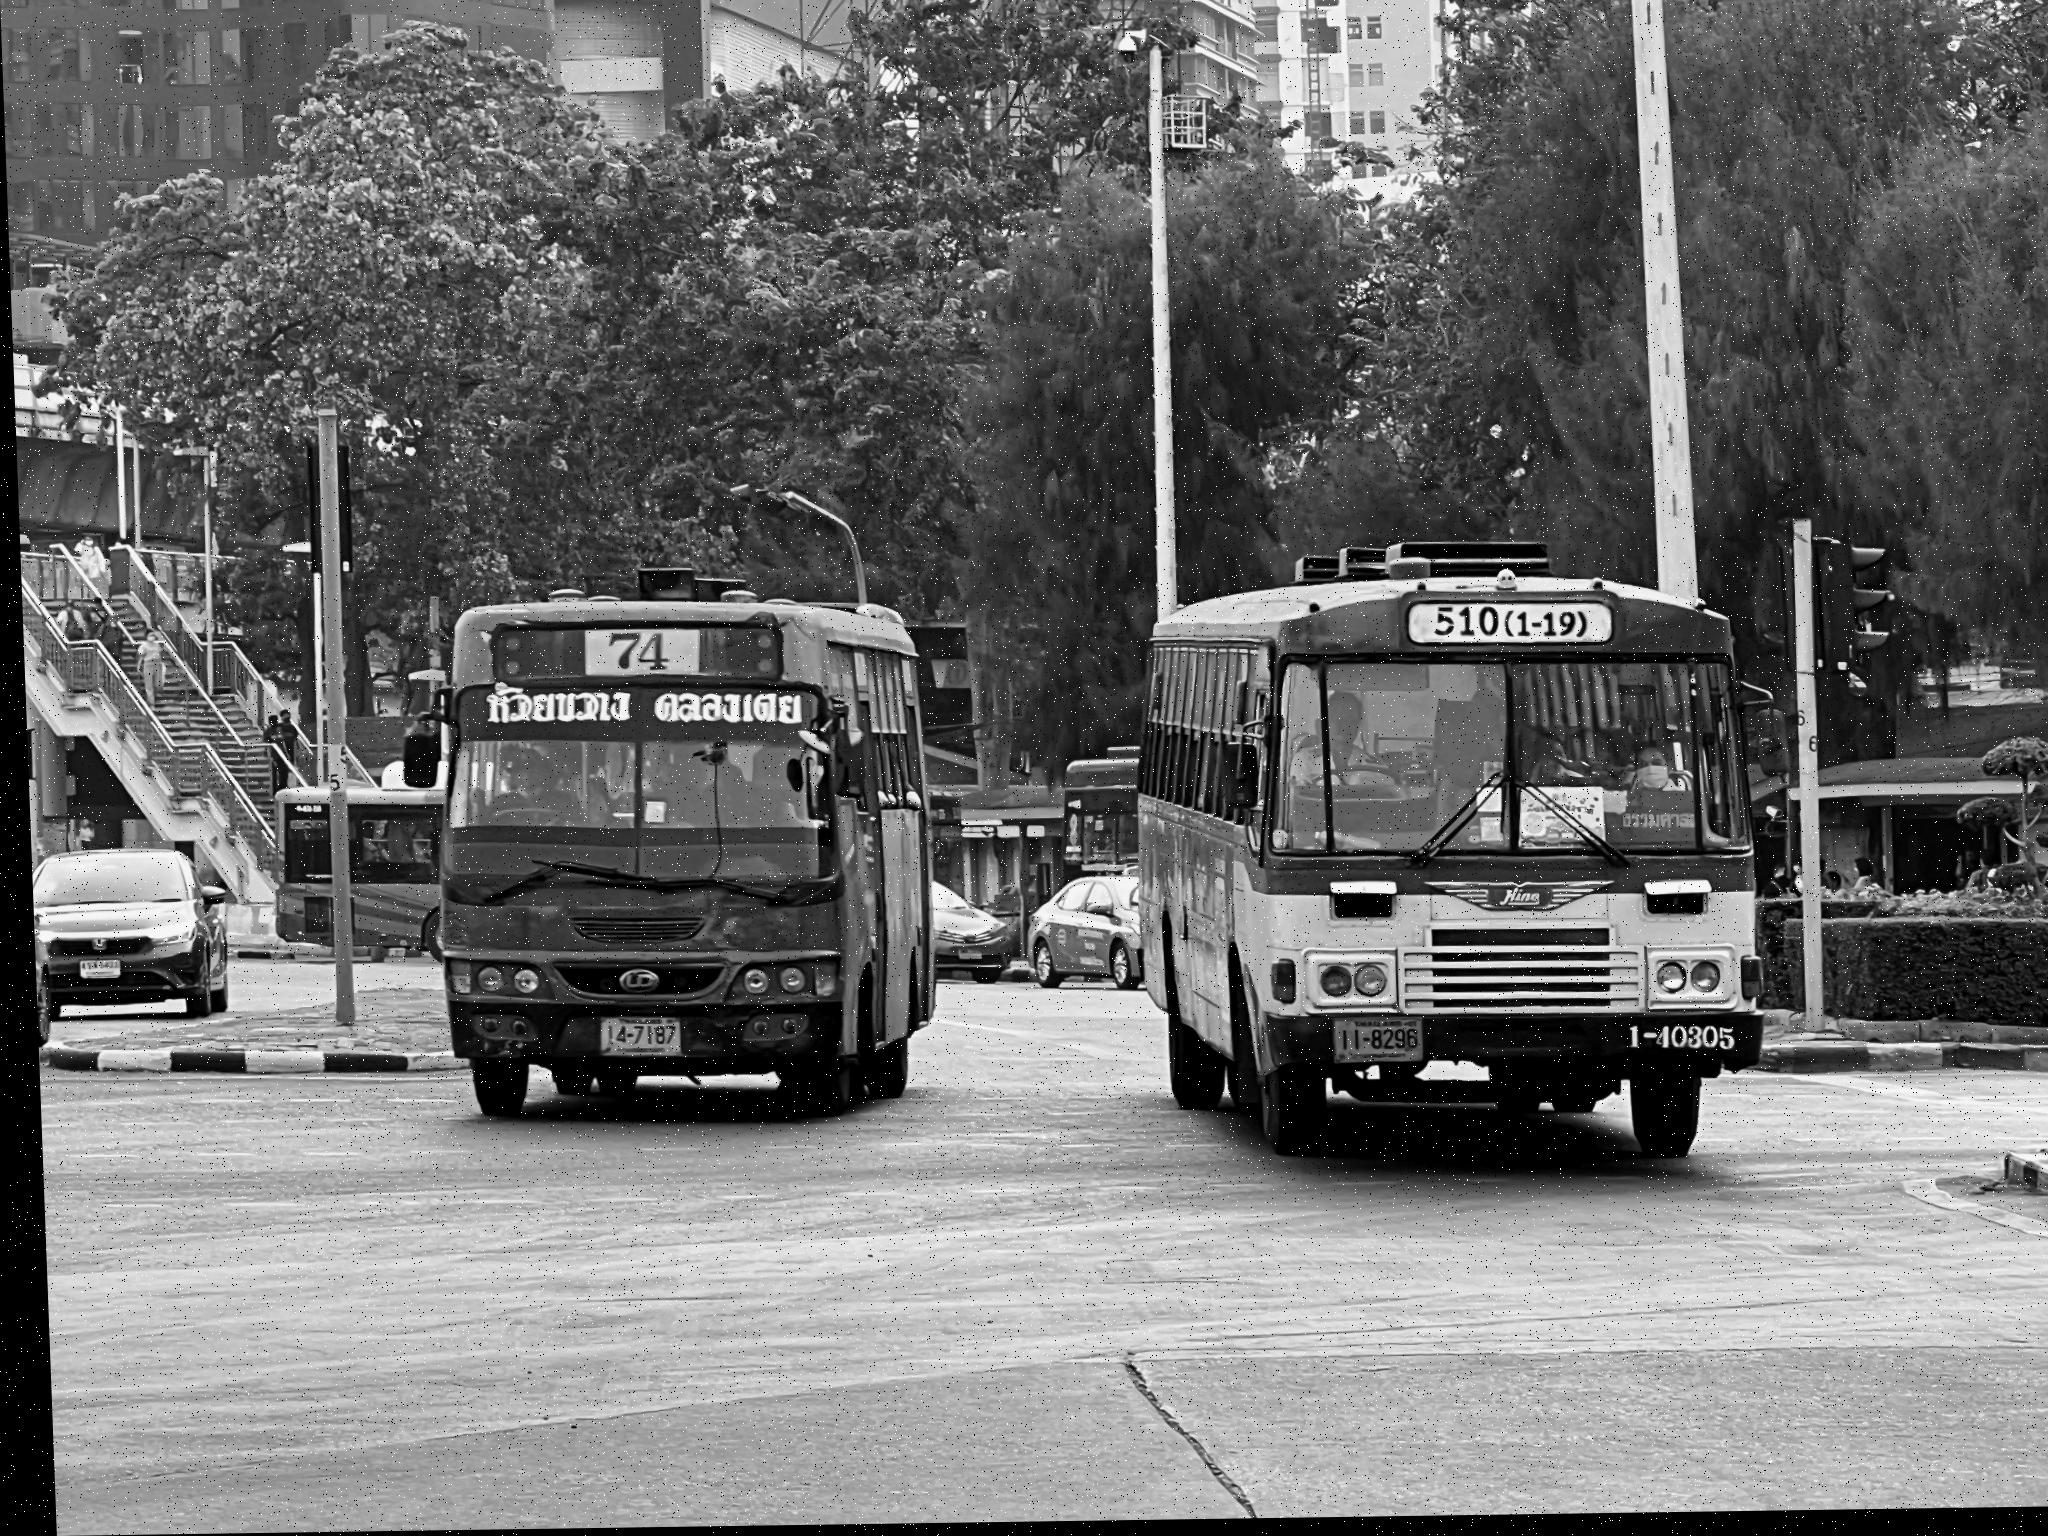BMTA-bus: (1127, 547, 1758, 1170)
Bus Line Number: (1417, 599, 1585, 652)
Bus Side Number: (1613, 1018, 1740, 1060)
Destination Sign: (1595, 795, 1706, 860)
